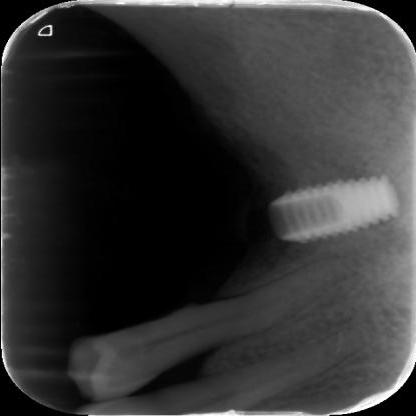Bicon: (233, 173, 406, 255)
